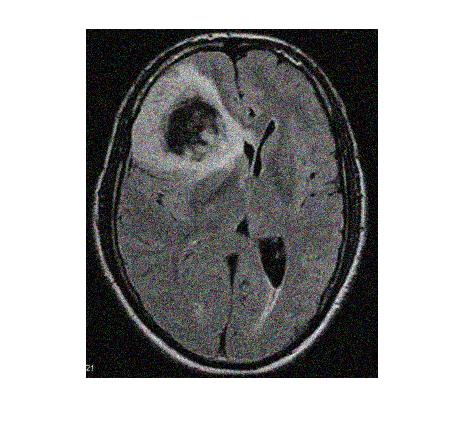Brain_Cancer: (149, 97, 231, 161)
